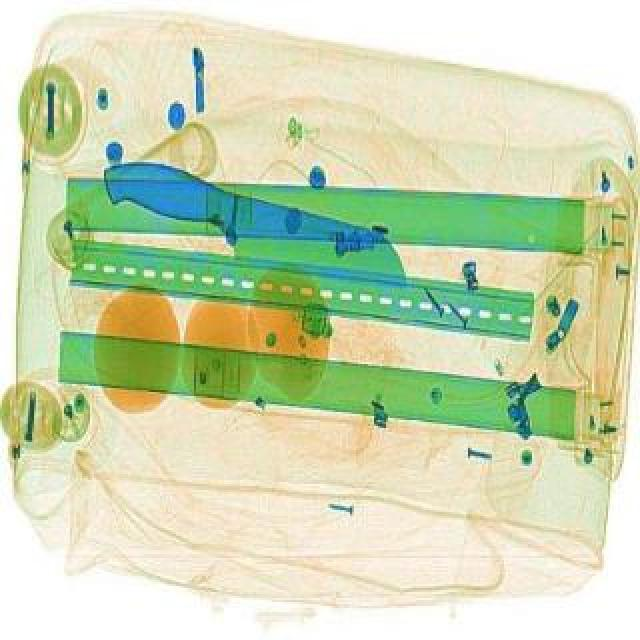knife: (88, 146, 424, 306)
